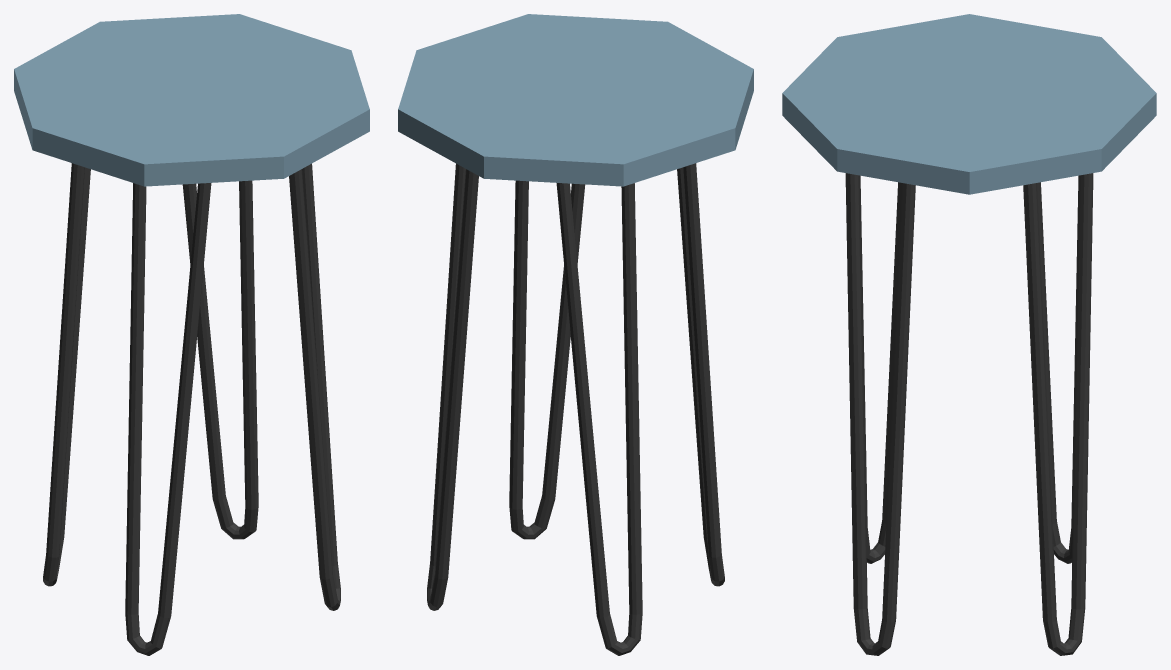
The model's file is Little_table.fbx.
3 renders of one model, left to right at view 1: azimuth 30°, elevation 25°; view 2: azimuth 150°, elevation 25°; view 3: azimuth 270°, elevation 25°, orthographic.
Parts seen in each view (by area): view 1: Little_table; view 2: Little_table; view 3: Little_table.
Boxes of the visible parts, left/top/right/bottom form: Little_table: left=14, top=14, right=369, bottom=655; Little_table: left=398, top=14, right=753, bottom=655; Little_table: left=782, top=14, right=1156, bottom=655.
Bounding box in the file's own units: 63.93 × 63.93 × 97.27.
